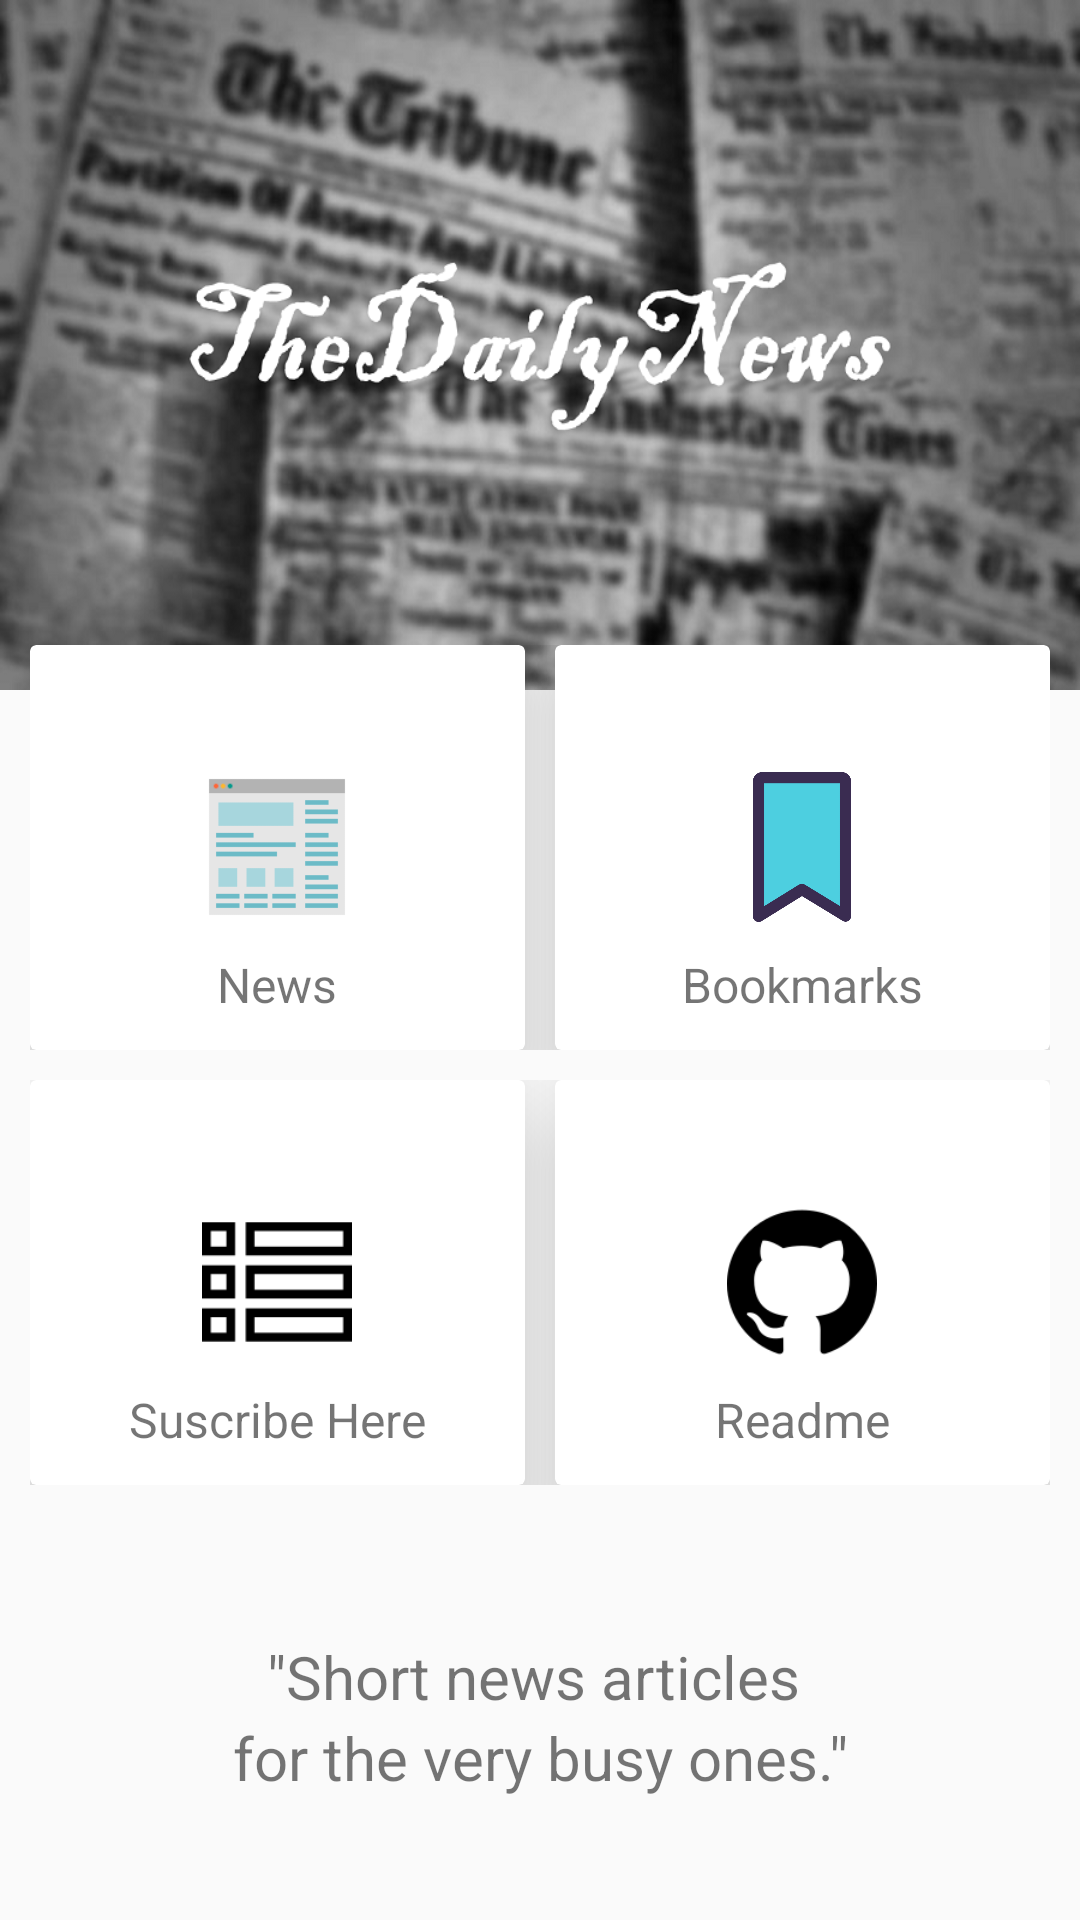

Named icons in this screenshot (1080w x 1920h) and their centers, point (x, y):
category: point (277, 1282)
headlines: point (277, 846)
